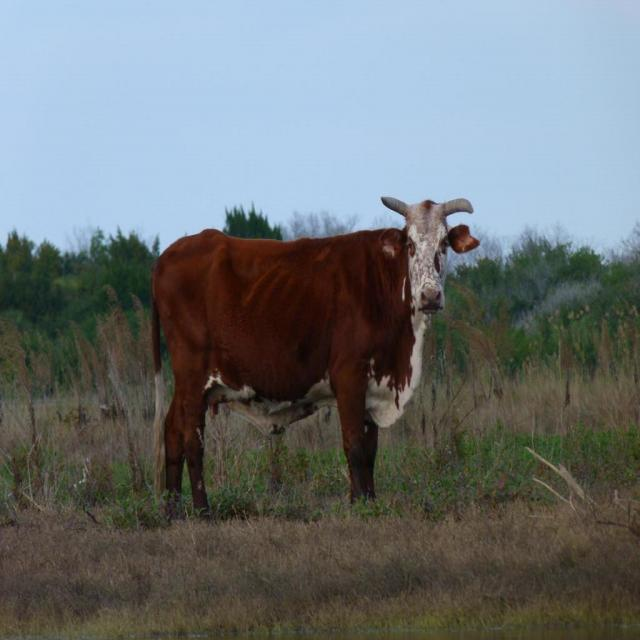Cattle: (133, 189, 492, 516)
